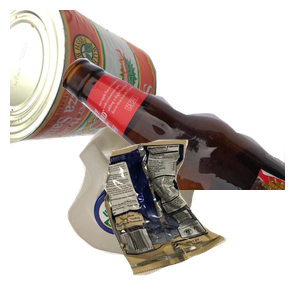glass: (60, 56, 300, 236)
metal: (10, 10, 159, 152)
plastic: (65, 123, 257, 300)
trash: (101, 137, 300, 300)
